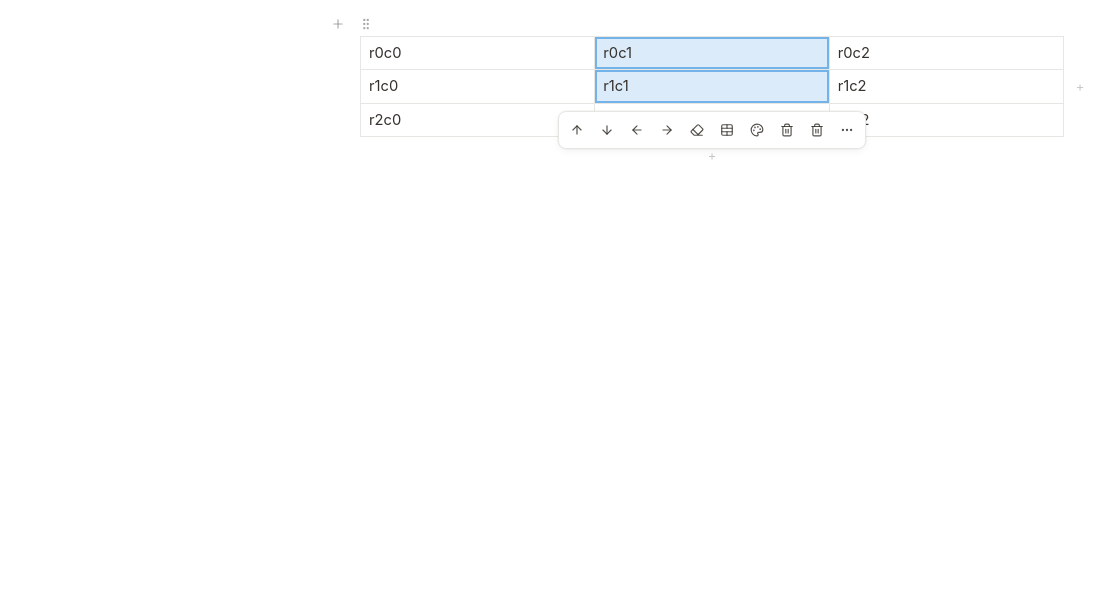
Test: range-aware cell context menu (TBL-6) › a 1×1 shift range collapses on right-click and keeps the full single-cell menu
Press ArrowUp
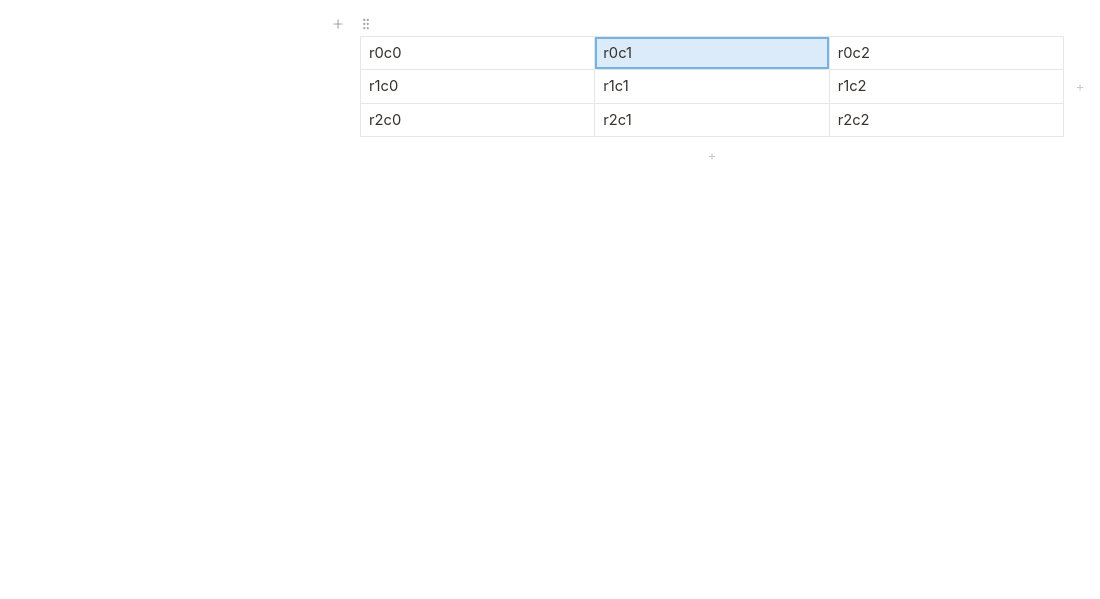
Press the mouse on the cell "r1c1" at [712, 86], box [595,70,829,103]
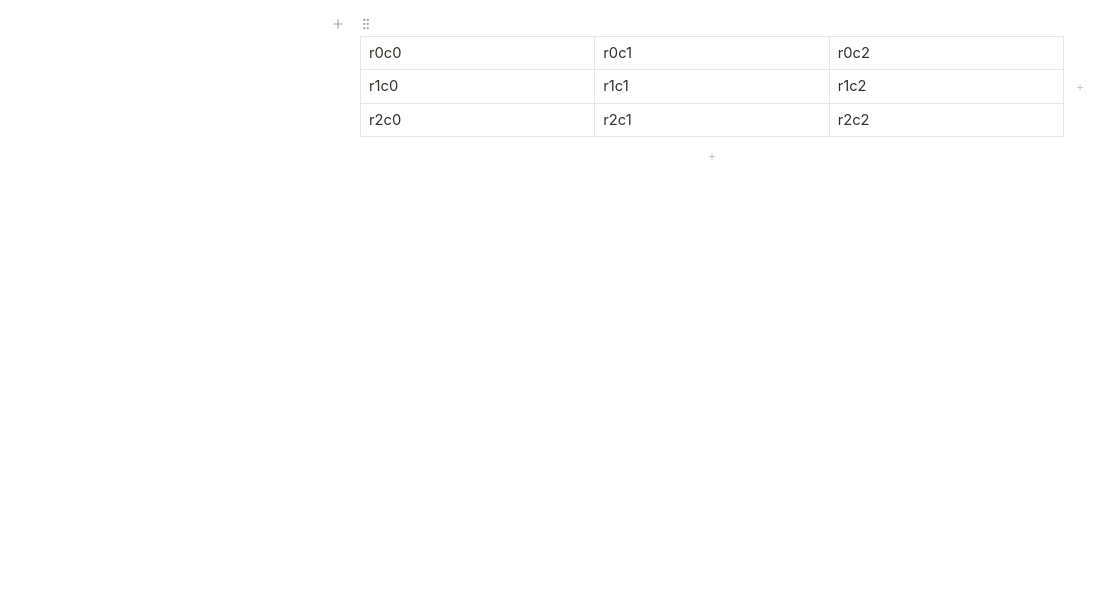
Right-click the cell "r1c1" at [712, 86], box [595,70,829,103]
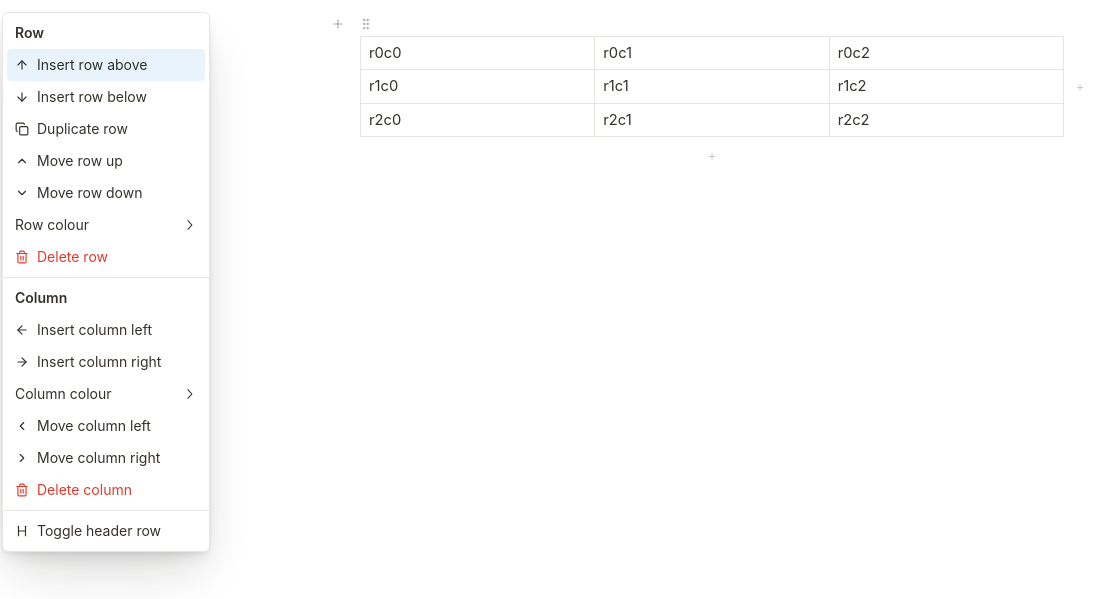
Result: the menu item "Duplicate row" is shown at [15,120,128,137]
Result: the menu item "Toggle header row" is shown at [15,522,161,539]
